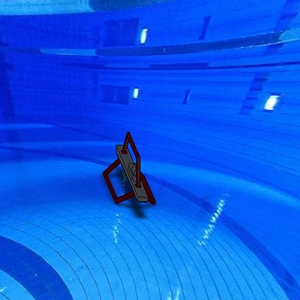submarine: (97, 129, 163, 216)
